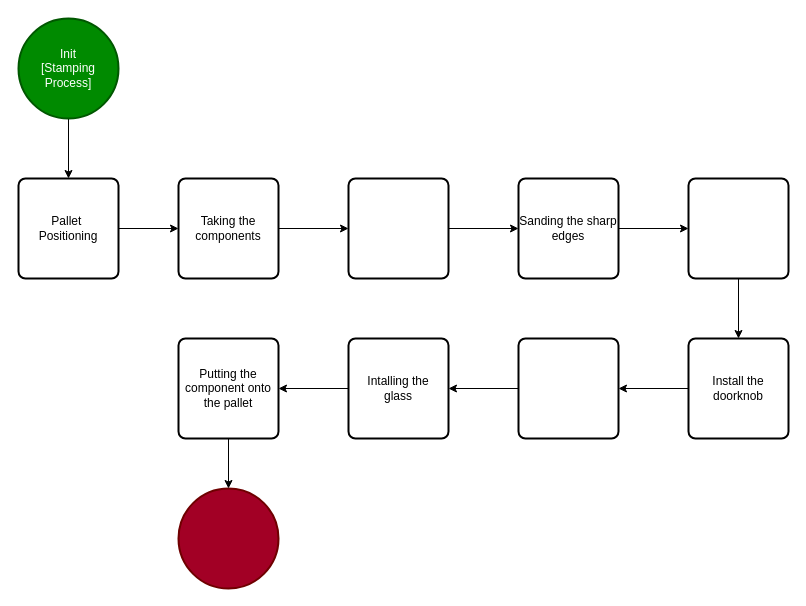
Image size: 806x606. Some labels were removed from this diagram. The centre of each missing label's shape, as x and y in pixels:
Cleaning the components: point (738, 228)
End [Assembling Process]: point (228, 538)
Put the component onto the bench: point (398, 228)
Putting PU's glue: point (568, 388)
